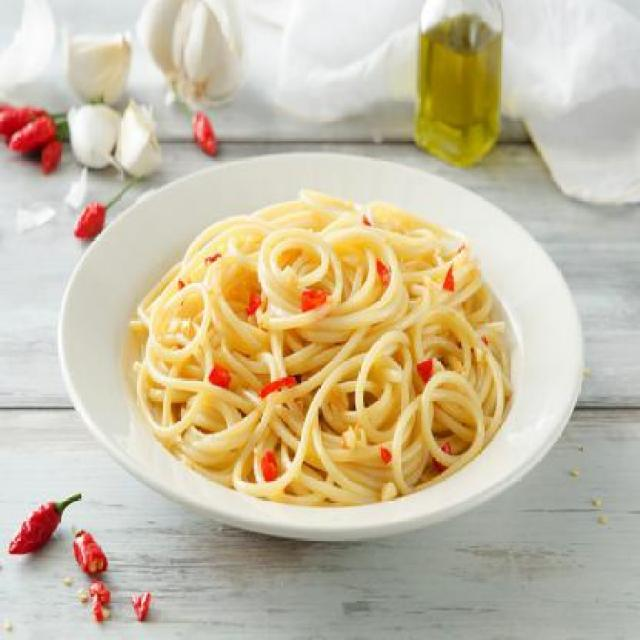Oil pasta: (90, 142, 588, 522)
